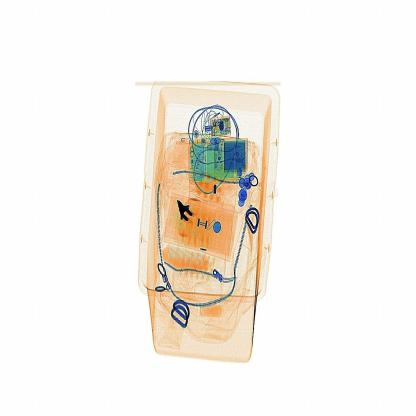gun: (166, 192, 213, 244)
